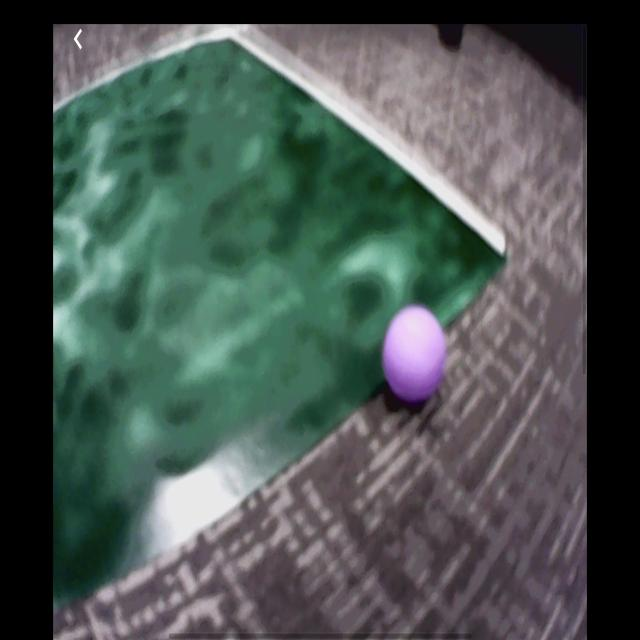ball: (383, 305, 448, 403)
